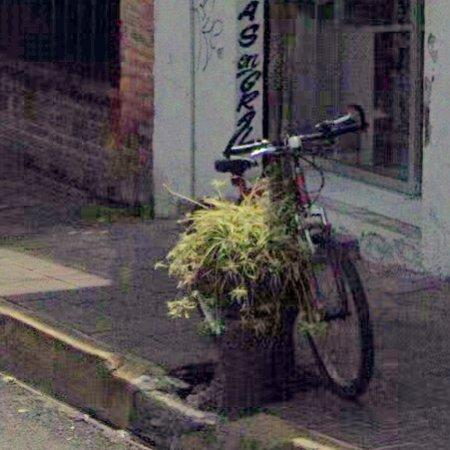bicycles: (216, 105, 374, 400)
